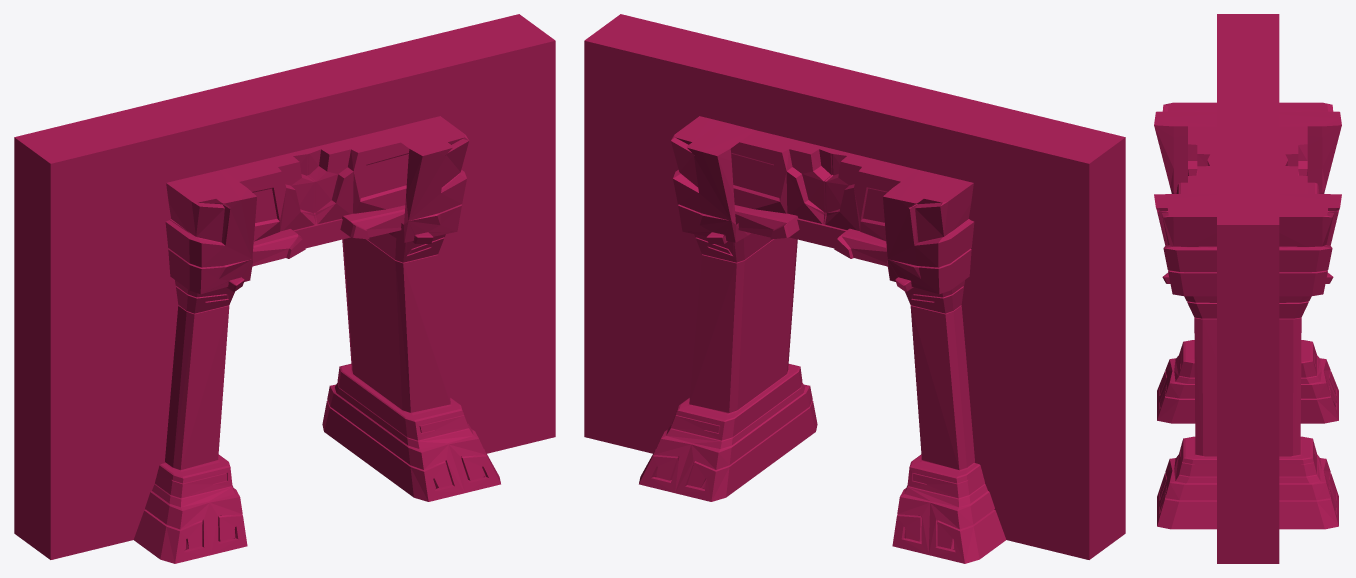
File: Boss_Gate_01.fbx
3 views of the same model, side by side, from view 1: azimuth 30°, elevation 25°; view 2: azimuth 150°, elevation 25°; view 3: azimuth 270°, elevation 25° (orthographic). The views are drawn at different scales.
Visible parts, largest first — view 1: Boss_Gate_01; view 2: Boss_Gate_01; view 3: Boss_Gate_01.
Boxes of the visible parts, box(x1,y1,x2,y2) form: Boss_Gate_01: box(14, 14, 555, 563); Boss_Gate_01: box(584, 14, 1125, 563); Boss_Gate_01: box(1154, 14, 1341, 563).
Bounding box in the file's own units: 1600 × 1200 × 603.
